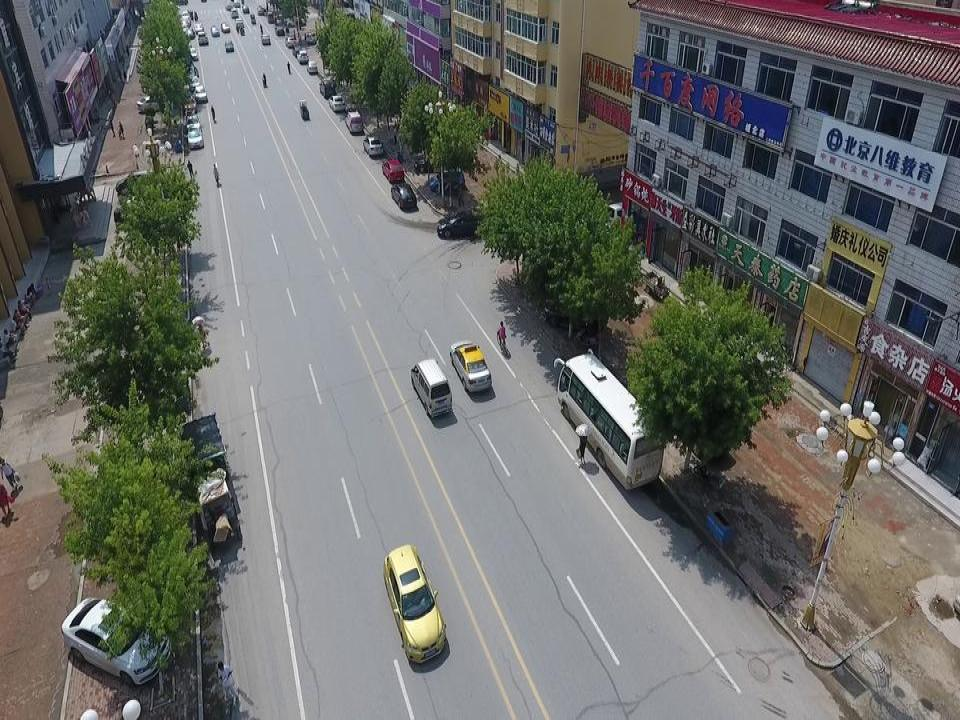bus: (553, 348, 665, 489)
car: (60, 598, 171, 686), (382, 544, 446, 664), (542, 289, 608, 332), (449, 340, 492, 393), (437, 208, 492, 239), (113, 199, 166, 221), (414, 151, 458, 176), (429, 171, 465, 193), (390, 182, 417, 209), (380, 159, 404, 185), (136, 96, 172, 113), (362, 138, 384, 158), (186, 127, 204, 150), (328, 95, 345, 112), (185, 115, 201, 133), (183, 65, 199, 83), (306, 30, 323, 46), (193, 85, 208, 103), (182, 95, 196, 113), (286, 16, 305, 27), (188, 74, 200, 90), (296, 51, 309, 65), (197, 31, 209, 45), (306, 61, 318, 75), (187, 47, 198, 61), (284, 36, 296, 48), (184, 28, 195, 40), (210, 24, 220, 37), (291, 46, 302, 57), (220, 22, 230, 34), (260, 34, 270, 46), (224, 39, 233, 52), (274, 25, 284, 36), (234, 17, 244, 28), (195, 22, 204, 34), (224, 1, 233, 11), (230, 8, 238, 19), (256, 5, 264, 15), (241, 6, 249, 14), (232, 0, 240, 7)
truck: (178, 412, 242, 549)
van: (409, 357, 453, 417), (602, 202, 649, 233), (345, 111, 362, 133), (319, 78, 335, 98), (266, 10, 274, 22)
